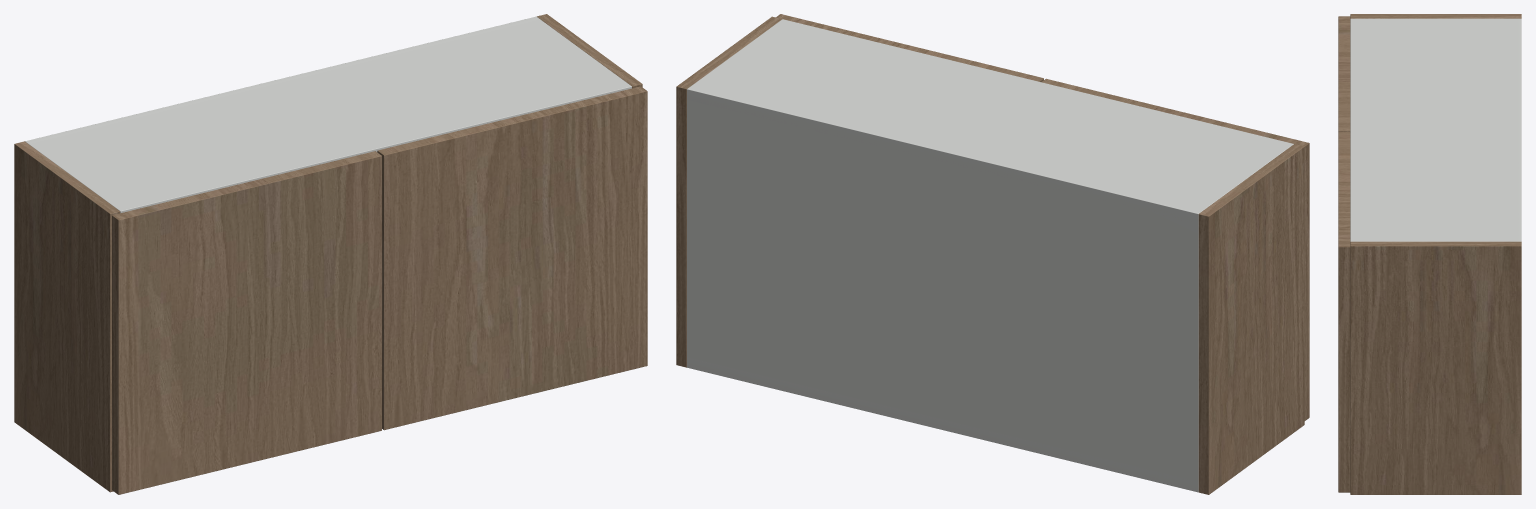
File: oppein-pb-mnw-w3618.glb
3 renders of one model, left to right at view 1: azimuth 30°, elevation 25°; view 2: azimuth 150°, elevation 25°; view 3: azimuth 270°, elevation 25°, orthographic. The views are drawn at different scales.
Parts seen in each view (by area): view 1: Door, Door.001, Cabinet top, Cabinet side, Cabinet back, Cabinet side.001; view 2: Cabinet back, Cabinet top, Cabinet side, Cabinet bottom, Cabinet side.001, Door, Door.001; view 3: Cabinet side.001, Cabinet top, Door.001, Cabinet back, Door, Cabinet side.
Part boxes in pixels (x1,y1,x2,y2): Door: (112, 151, 381, 494); Door.001: (377, 86, 647, 430); Cabinet top: (29, 19, 631, 213); Cabinet side: (14, 141, 120, 492); Cabinet back: (25, 16, 539, 143); Cabinet side.001: (537, 14, 642, 88); Cabinet back: (687, 86, 1201, 492); Cabinet top: (687, 19, 1293, 221); Cabinet side: (1198, 144, 1304, 494); Cabinet bottom: (687, 357, 1198, 491); Cabinet side.001: (676, 16, 781, 367); Door: (1041, 78, 1309, 420); Door.001: (776, 14, 1043, 81); Cabinet side.001: (1350, 241, 1521, 494); Cabinet top: (1350, 18, 1521, 241); Door.001: (1338, 132, 1350, 492); Cabinet back: (1514, 18, 1521, 241); Door: (1338, 16, 1350, 131); Cabinet side: (1350, 14, 1521, 18).
Size of the model in its own units: 0.9144 by 0.4572 by 0.3048.
2 materials, 1 textured.
